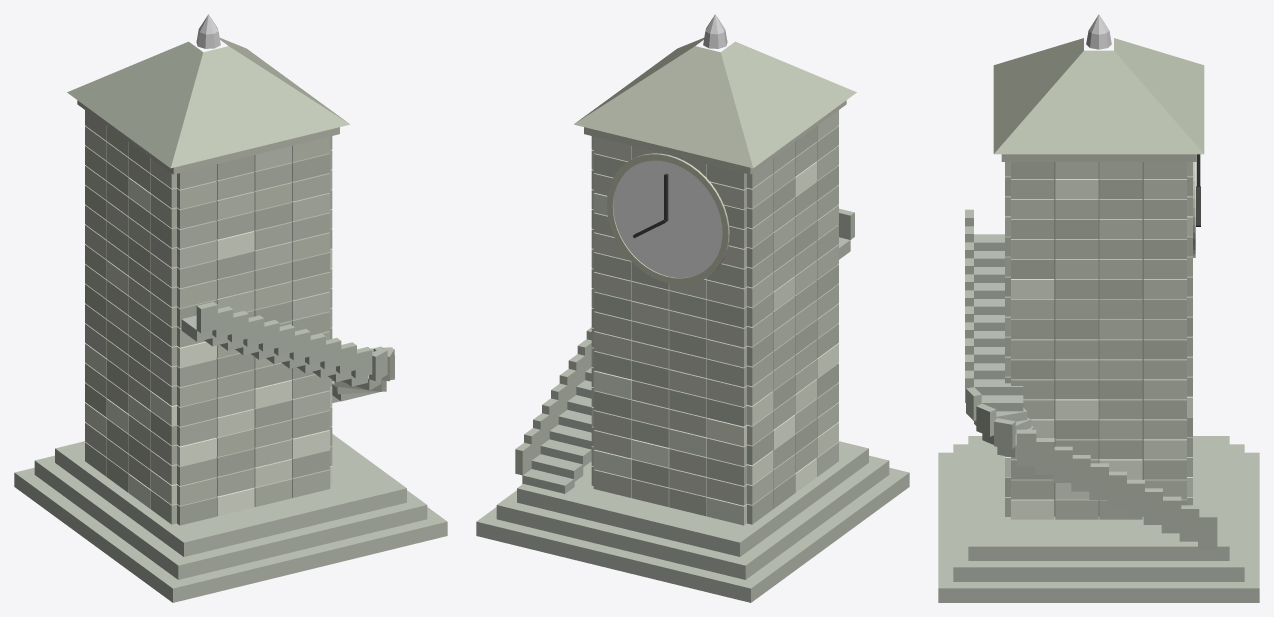
Rendered from clock-tower.glb.
3 views of the same model, side by side, from view 1: azimuth 30°, elevation 25°; view 2: azimuth 150°, elevation 25°; view 3: azimuth 270°, elevation 25° (orthographic).
Visible parts, largest first — view 1: clock_square_block_courses, clock_plinth_three_tiers, clock_cornice_and_pitched_roof, clock_moss_courses, clock_winding_stair_parapet, clock_winding_stair_treads, clock_roof_finial; view 2: clock_square_block_courses, clock_plinth_three_tiers, clock_cornice_and_pitched_roof, clock_face_3_2m, clock_moss_courses, clock_winding_stair_treads, clock_winding_stair_parapet, clock_bezel, clock_roof_finial; view 3: clock_square_block_courses, clock_plinth_three_tiers, clock_cornice_and_pitched_roof, clock_winding_stair_parapet, clock_winding_stair_treads, clock_moss_courses, clock_roof_finial.
Boxes of the visible parts, x1,y1,x2,y2 form: clock_square_block_courses: [85, 110, 332, 525]; clock_plinth_three_tiers: [14, 434, 447, 602]; clock_cornice_and_pitched_roof: [67, 38, 349, 174]; clock_moss_courses: [85, 177, 332, 516]; clock_winding_stair_parapet: [196, 302, 394, 381]; clock_winding_stair_treads: [181, 315, 386, 402]; clock_roof_finial: [196, 14, 220, 48]; clock_square_block_courses: [591, 110, 838, 524]; clock_plinth_three_tiers: [476, 441, 909, 602]; clock_cornice_and_pitched_roof: [574, 38, 856, 174]; clock_face_3_2m: [613, 160, 722, 277]; clock_moss_courses: [591, 161, 838, 525]; clock_winding_stair_treads: [522, 237, 850, 493]; clock_winding_stair_parapet: [515, 208, 854, 475]; clock_bezel: [607, 153, 729, 284]; clock_roof_finial: [703, 14, 727, 48]; clock_square_block_courses: [1005, 162, 1192, 519]; clock_plinth_three_tiers: [938, 436, 1259, 602]; clock_cornice_and_pitched_roof: [993, 38, 1204, 161]; clock_winding_stair_parapet: [965, 209, 1217, 541]; clock_winding_stair_treads: [974, 234, 1217, 549]; clock_moss_courses: [1005, 179, 1192, 519]; clock_roof_finial: [1086, 14, 1111, 49].
Bounding box in the file's own units: 8 × 14 × 8.
